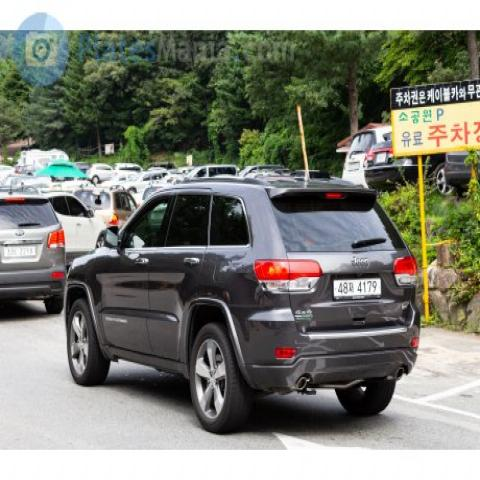LP: (326, 266, 390, 304)
